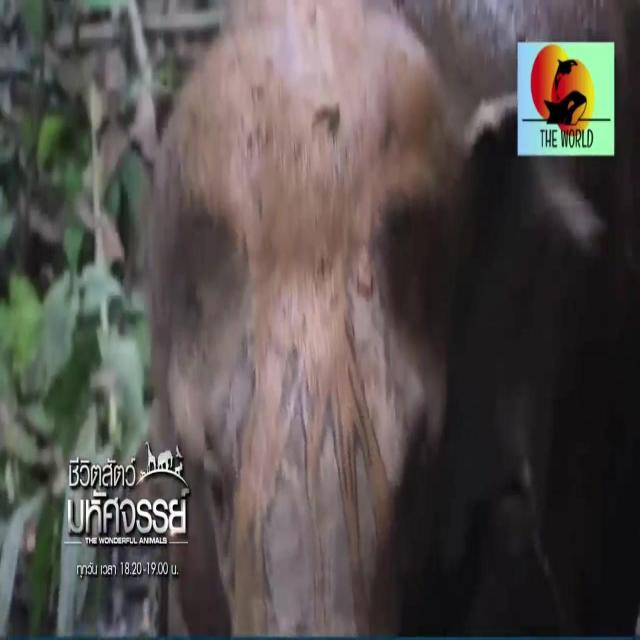Elephant: (187, 41, 488, 562)
